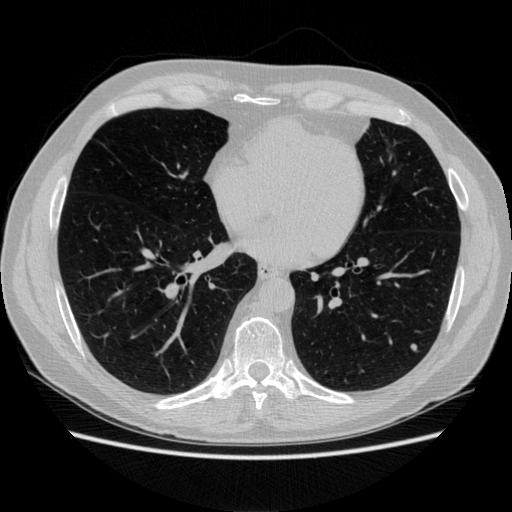nodule: (407, 341, 420, 354)
